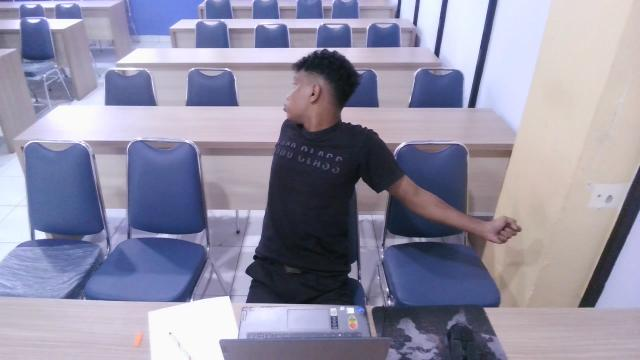Turning_Back: (226, 30, 393, 250)
